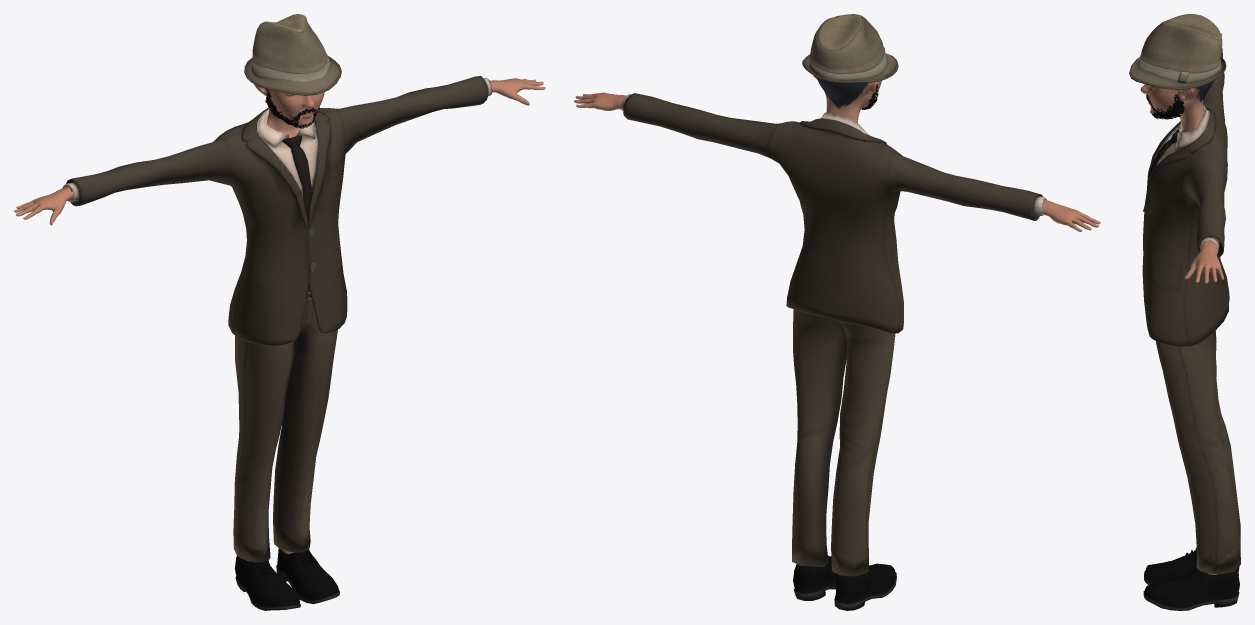
Rendered from Dennis Huber Obj.obj.
3 views of the same model, side by side, from view 1: azimuth 30°, elevation 25°; view 2: azimuth 150°, elevation 25°; view 3: azimuth 270°, elevation 25° (orthographic).
Parts seen in each view (by area): view 1: Tops, Bottoms, Hats, Shoes, Body; view 2: Tops, Bottoms, Hats, Shoes, Body; view 3: Tops, Bottoms, Hats, Shoes, Body, Beards.
Part boxes in pixels (<box>): Tops: <box>62,76,492,346</box>; Bottoms: <box>233,279,337,562</box>; Hats: <box>244,14,341,95</box>; Shoes: <box>235,548,339,610</box>; Body: <box>14,78,545,561</box>; Tops: <box>621,93,1046,333</box>; Bottoms: <box>792,309,895,576</box>; Hats: <box>802,14,898,82</box>; Shoes: <box>793,555,896,610</box>; Body: <box>574,75,1100,566</box>; Tops: <box>1142,48,1229,346</box>; Bottoms: <box>1156,331,1240,574</box>; Hats: <box>1129,14,1226,89</box>; Shoes: <box>1143,547,1239,610</box>; Body: <box>1140,33,1224,574</box>; Beards: <box>1150,92,1184,119</box>.
Size of the model in its own units: 163 by 170 by 30.05.
1 material, 1 textured.
